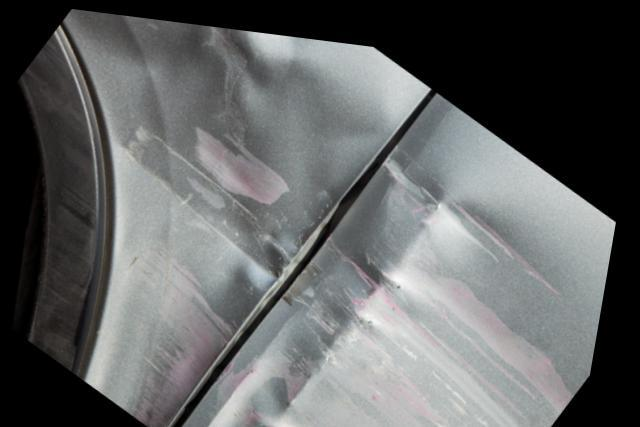dent: (60, 7, 392, 427), (194, 139, 607, 427)
